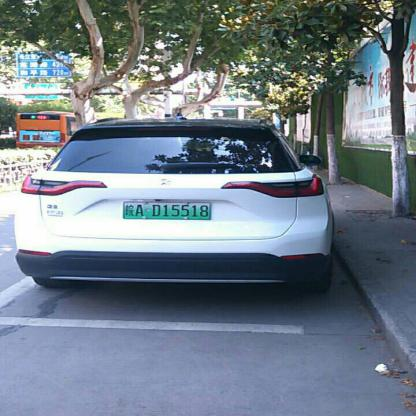lp: (122, 200, 211, 218)
